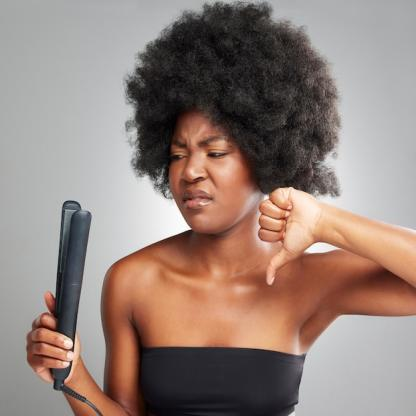thumb_down: (256, 180, 320, 288)
